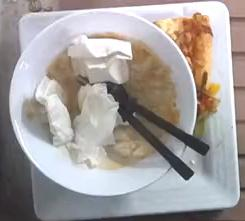pizza_crust: (156, 13, 213, 88)
